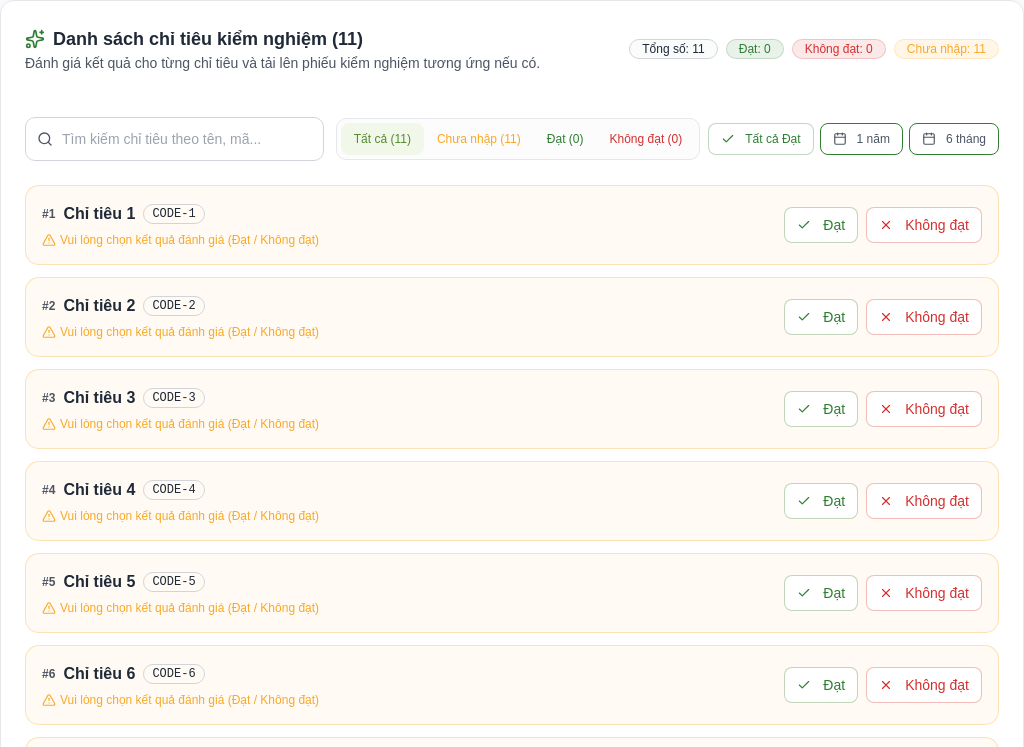
Test case: InspectionResultEntryForm › phân trang 10 chỉ tiêu và giữ dữ liệu đã nhập khi chuyển trang
The width and height of the screenshot is (1024, 747).
Expected: the text "Chỉ tiêu 1" is shown, [63, 202, 135, 226]
Expected: the text "Chỉ tiêu 11" is not shown
Click the 1st button "Đạt" at (821, 225), box [784, 207, 858, 243]
(page scrolled)
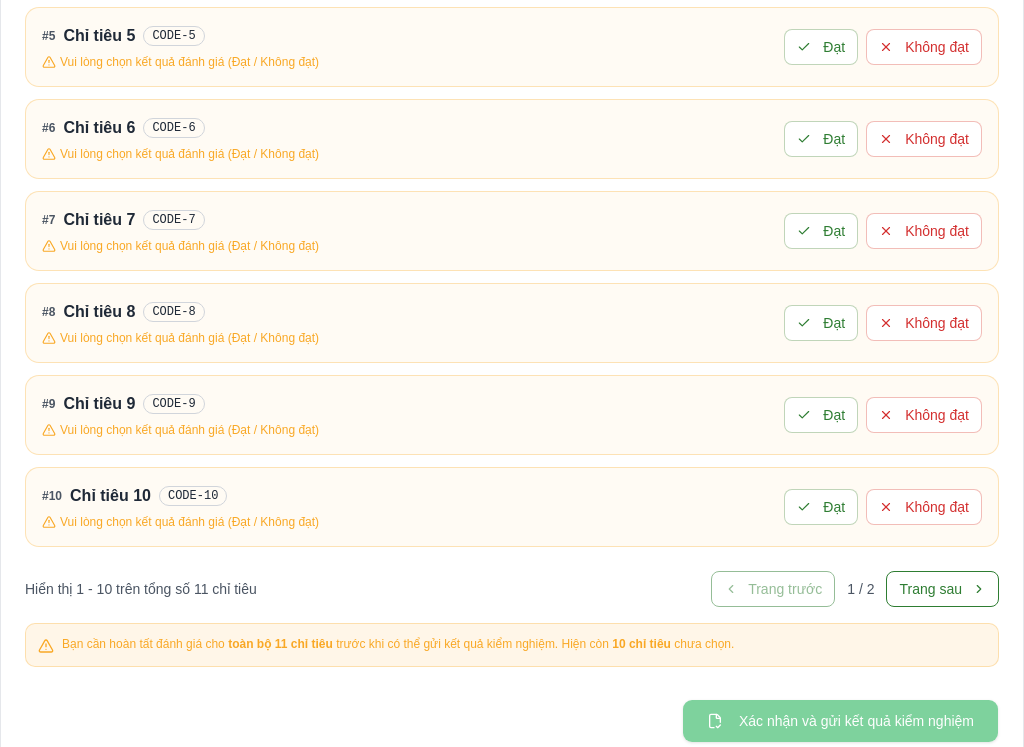
Click the button "Trang sau" at (943, 589), box [886, 571, 999, 607]
(page scrolled)
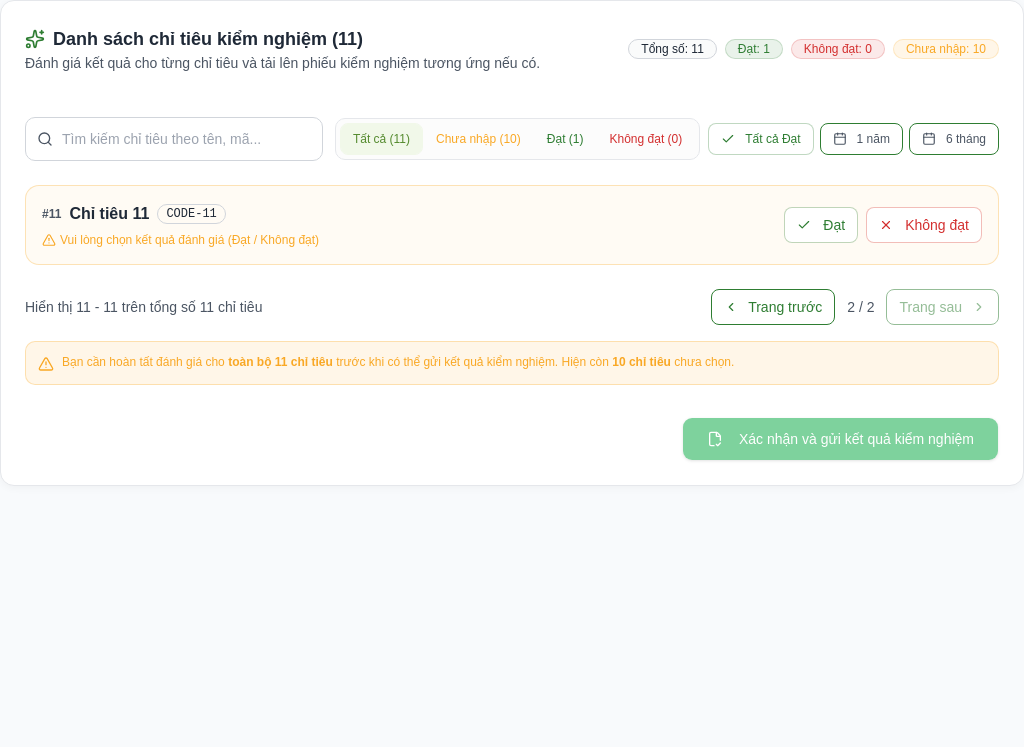
Now the text "Chỉ tiêu 11" is shown, box [69, 202, 149, 226]
Now the text "Hiển thị 11 - 11 trên tổng số 11 chỉ tiêu" is shown, box [25, 297, 262, 317]
Now the text "2 / 2" is shown, box [847, 299, 874, 315]
Click the button "Trang trước" at (773, 307), box [711, 289, 835, 325]
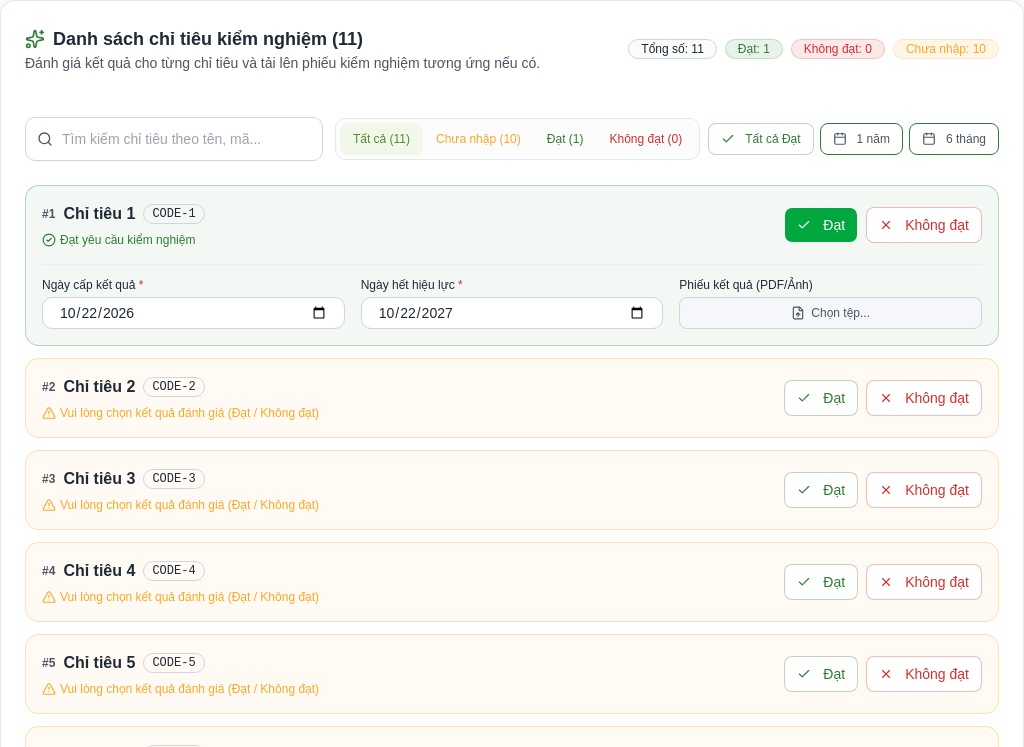
Now the icon "Đạt: 1" is shown, box [725, 39, 783, 59]
Now the text "Chỉ tiêu 1" is shown, box [63, 202, 135, 226]
